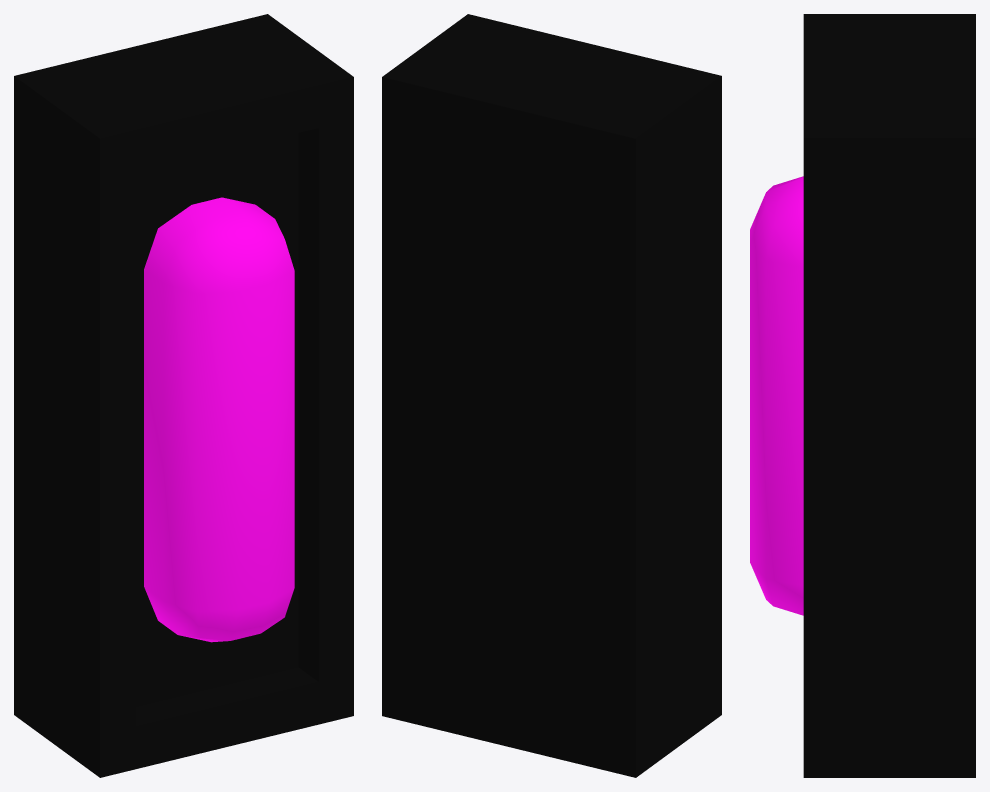
The model's file is Lamp_Purple.glb.
3 views of the same model, side by side, from view 1: azimuth 30°, elevation 25°; view 2: azimuth 150°, elevation 25°; view 3: azimuth 270°, elevation 25° (orthographic).
Parts seen in each view (by area): view 1: Lamp; view 2: Lamp; view 3: Lamp.
Boxes of the visible parts, x1,y1,x2,y2 form: Lamp: [14, 14, 353, 777]; Lamp: [382, 14, 721, 777]; Lamp: [750, 14, 975, 777].
Size of what is drawn, in the model's own units: 0.3973 by 0.9559 by 0.3059.
1 material, 1 textured.
